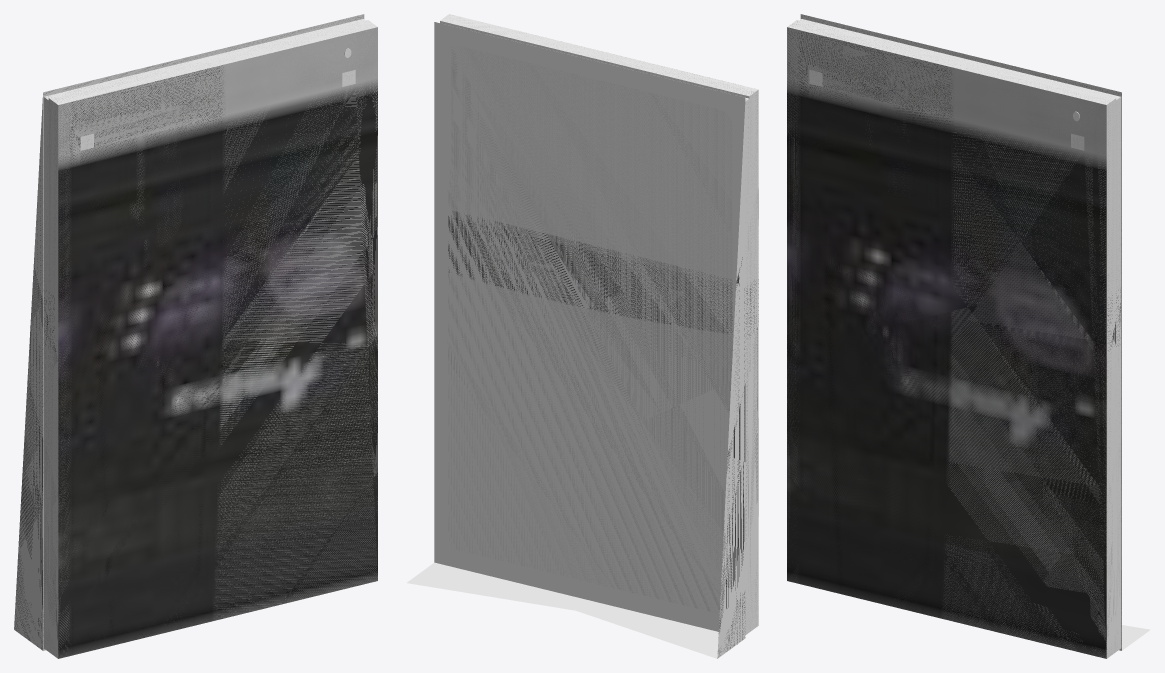
3 views of the same model, side by side, from view 1: azimuth 30°, elevation 25°; view 2: azimuth 150°, elevation 25°; view 3: azimuth 330°, elevation 25° (orthographic). The views are drawn at different scales.
Size of the model in its own units: 0.833 by 1.38 by 0.1965.
